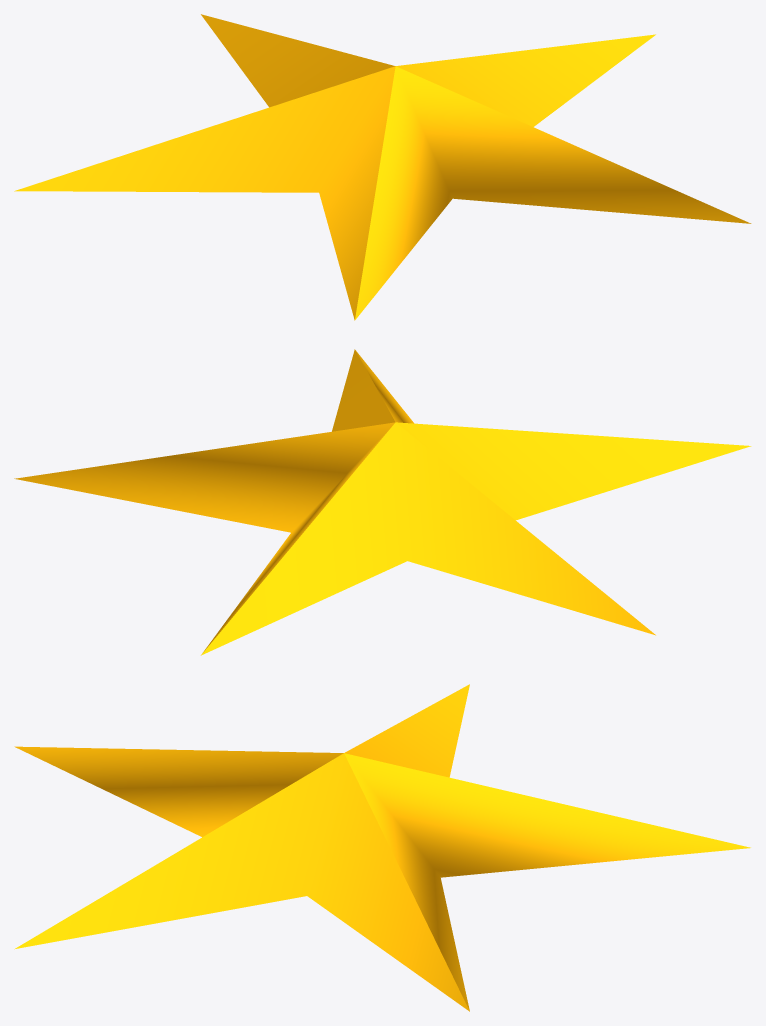
File: Star_2.fbx
3 renders of one model, top to bottom at view 1: azimuth 30°, elevation 25°; view 2: azimuth 150°, elevation 25°; view 3: azimuth 270°, elevation 25°, orthographic. The views are drawn at different scales.
Visible parts, largest first — view 1: Star_2; view 2: Star_2; view 3: Star_2.
Boxes of the visible parts, x1,y1,x2,y2 form: Star_2: (14,14,751,320); Star_2: (14,349,751,655); Star_2: (14,684,750,1011).
Bounding box in the file's own units: 6.59 × 6.27 × 0.8897.
